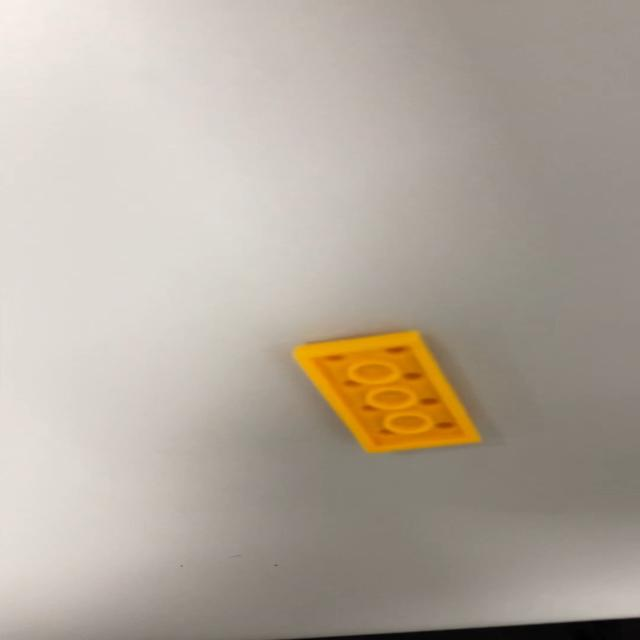C4x2x0: (290, 329, 482, 454)
